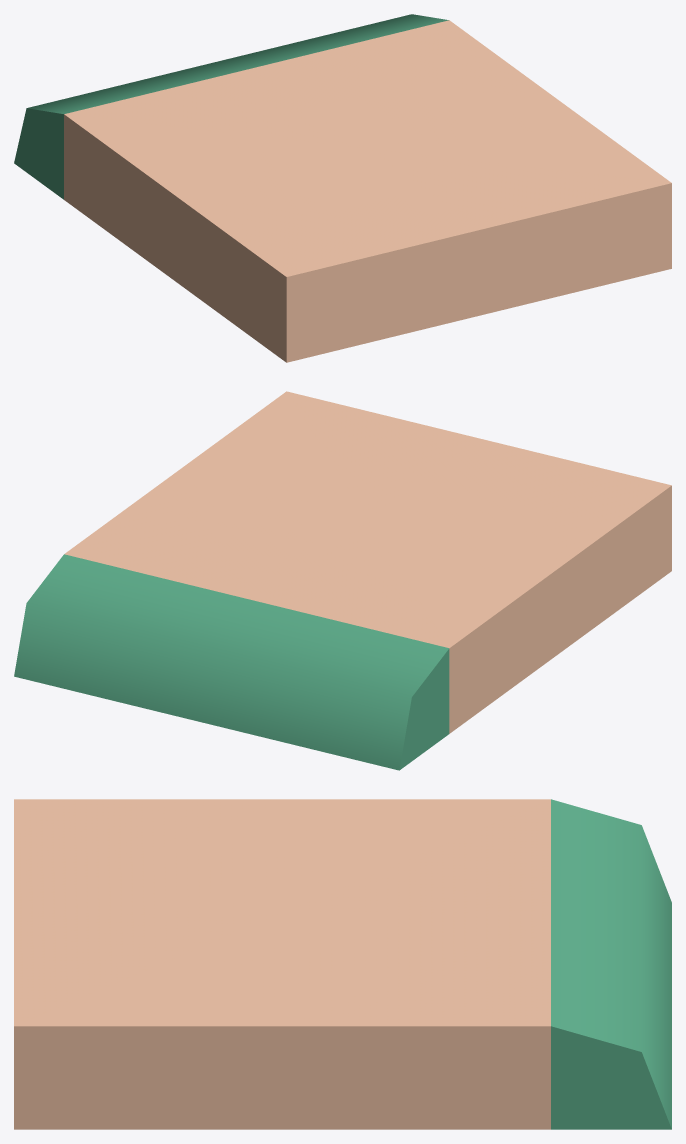
The model's file is RoofAwningA.fbx.
3 views of the same model, one above another, from view 1: azimuth 30°, elevation 25°; view 2: azimuth 150°, elevation 25°; view 3: azimuth 270°, elevation 25° (orthographic). The views are drawn at different scales.
Parts seen in each view (by area): view 1: RoofAwningA; view 2: RoofAwningA; view 3: RoofAwningA.
Part boxes in pixels (left/top/right/bottom): RoofAwningA: left=14, top=14, right=671, bottom=362; RoofAwningA: left=14, top=391, right=671, bottom=770; RoofAwningA: left=14, top=799, right=671, bottom=1129.
Size of the model in its own units: 300 by 63.75 by 368.
